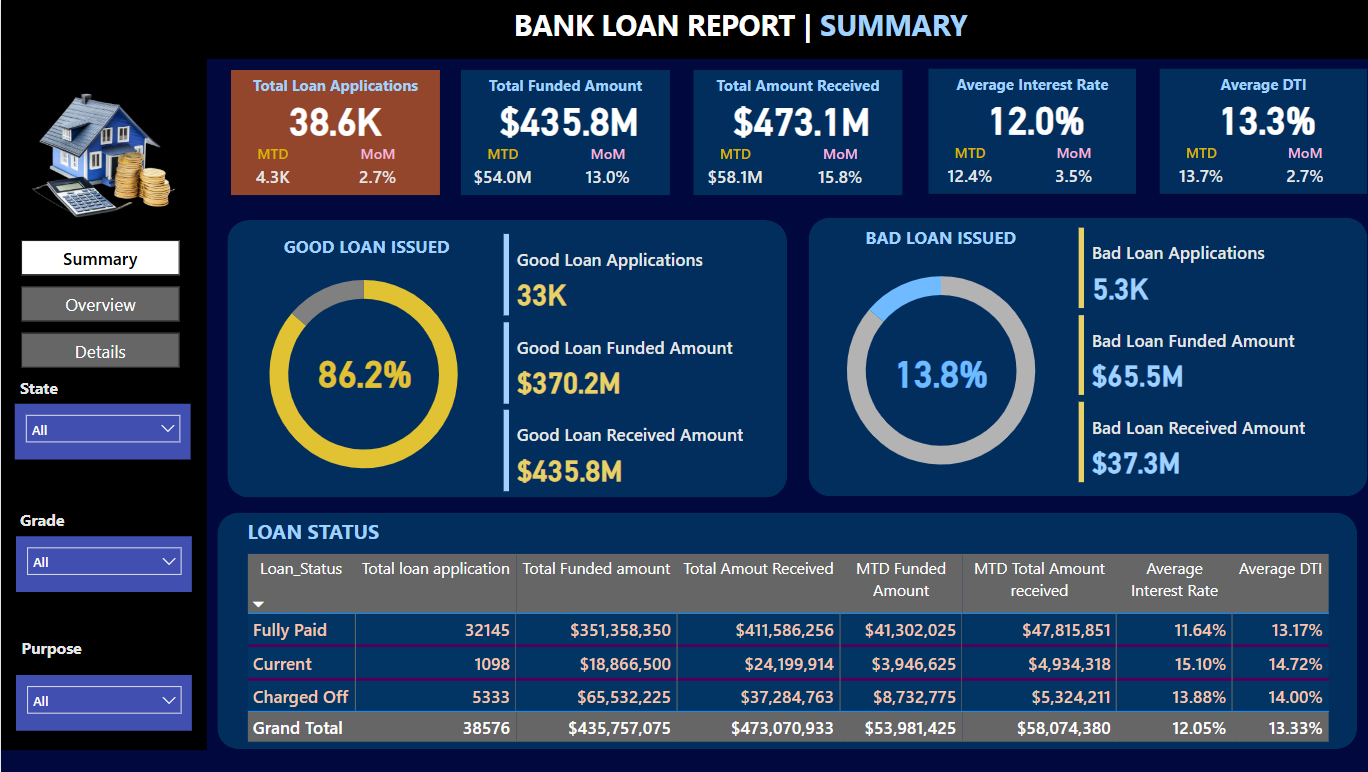

The page's visual inventory and layout, read from the dashboard file:
{"tool":"powerbi","page":{"name":"Summary","canvas":[1280,720],"ordinal":0},"visuals":[{"type":"shape","box":[865,64,193.5,116.6],"z":0,"group":"g4"},{"type":"shape","box":[1081,64,193.5,116.6],"z":0,"group":"g5"},{"type":"shape","box":[214.3,65.4,194.9,116.6],"z":0,"group":"g1"},{"type":"shape","box":[428.9,65.4,194.9,116.6],"z":0,"group":"g2"},{"type":"shape","box":[646.3,65.4,194.9,116.6],"z":0,"group":"g3"},{"type":"shape","box":[210.9,205.1,522.2,258.9],"z":0},{"type":"card","fields":{"Values":["bank_loan_data.Average Interest Rate"]},"box":[868.3,64.2,193.5,91.9],"z":1000,"group":"g4"},{"type":"card","fields":{"Values":["bank_loan_data.Average DTI"]},"box":[1084.3,64.2,193.5,91.9],"z":1000,"group":"g5"},{"type":"card","fields":{"Values":["bank_loan_data.Total loan application"]},"box":[214.3,65.4,194.9,91.9],"z":1000,"group":"g1"},{"type":"card","fields":{"Values":["bank_loan_data.Total Funded amount"]},"box":[432.2,65.6,194.9,91.9],"z":1000,"group":"g2"},{"type":"card","fields":{"Values":["bank_loan_data.Total Amouth Received"]},"box":[649.6,65.6,194.9,91.9],"z":1000,"group":"g3"},{"type":"donutChart","fields":{"Category":["bank_loan_data.Good Vs Bad Loan"],"Y":["bank_loan_data.Total loan application"]},"box":[213.8,234.2,250.2,229.8],"z":1000},{"type":"shape","box":[0,54.9,192,644.9],"z":2000},{"type":"textbox","box":[865,64,193.5,34.3],"z":2000,"group":"g4"},{"type":"textbox","box":[1081,64,193.5,34.3],"z":2000,"group":"g5"},{"type":"textbox","box":[214.3,65.4,194.9,34.3],"z":2000,"group":"g1"},{"type":"textbox","box":[428.9,65.4,194.9,34.3],"z":2000,"group":"g2"},{"type":"textbox","box":[646.3,65.4,194.9,34.3],"z":2000,"group":"g3"},{"type":"shape","box":[0,0,1280.3,54.9],"z":3000},{"type":"card","title":"MTD","fields":{"Values":["bank_loan_data.MTD Average Interest Rate"]},"box":[865,132.6,77.7,48],"z":3000,"group":"g4"},{"type":"card","title":"MTD","fields":{"Values":["bank_loan_data.MTD Average DTI"]},"box":[1081,132.6,77.7,48],"z":3000,"group":"g5"},{"type":"card","title":"MTD","fields":{"Values":["bank_loan_data.MTD Loan Application"]},"box":[214.3,134,78.2,48],"z":3000,"group":"g1"},{"type":"card","title":"MTD","fields":{"Values":["bank_loan_data.MTD Funded Amount"]},"box":[428.9,134,78.2,48],"z":3000,"group":"g2"},{"type":"card","title":"MTD","fields":{"Values":["bank_loan_data.MTD Total Amount received"]},"box":[646.3,134,78.2,48],"z":3000,"group":"g3"},{"type":"card","title":"MoM","fields":{"Values":["bank_loan_data.MoM Average Interest rate"]},"box":[961.8,132.6,77.7,48],"z":4000,"group":"g4"},{"type":"card","title":"MoM","fields":{"Values":["bank_loan_data.MoM Average DTI"]},"box":[1177.8,132.6,77.7,48],"z":4000,"group":"g5"},{"type":"card","title":"MoM","fields":{"Values":["bank_loan_data.MoM Loan Application"]},"box":[311.7,134,78.2,48],"z":4000,"group":"g1"},{"type":"card","title":"MoM","fields":{"Values":["bank_loan_data.MoM Total Funded Amount"]},"box":[526.3,134,78.2,48],"z":4000,"group":"g2"},{"type":"card","title":"MoM","fields":{"Values":["bank_loan_data.MoM Total Amount received"]},"box":[743.7,134,78.2,48],"z":4000,"group":"g3"},{"type":"card","fields":{"Values":["bank_loan_data.Good Loan %"]},"box":[279.3,315.6,119.3,61.1],"z":4000},{"type":"textbox","box":[473.4,0,470.7,64.5],"z":5000},{"type":"group","id":"g1","title":"Group 1","box":[214.3,65.4,194.8,116.9],"z":6000},{"type":"group","id":"g2","title":"Group 1","box":[428.9,65.4,197.6,116.9],"z":7000},{"type":"group","id":"g3","title":"Group 1","box":[646.3,65.4,199,116.9],"z":8000},{"type":"group","id":"g4","title":"Group 1","box":[865,64,196.2,116.9],"z":9000},{"type":"group","id":"g5","title":"Group 1","box":[1081,64,196.2,116.9],"z":10000},{"type":"shape","box":[752.7,203.1,521.7,260.2],"z":11000},{"type":"textbox","box":[253.1,213.8,176,43.6],"z":12000},{"type":"cardVisual","fields":{"Data":["bank_loan_data.Good Loan Applications","bank_loan_data.Good Loan Funded Amount","bank_loan_data.Good Loan Received Amount"]},"box":[464,213.8,260.4,250.2],"z":13000},{"type":"donutChart","fields":{"Category":["bank_loan_data.Good Vs Bad Loan"],"Y":["bank_loan_data.Total loan application"]},"box":[752,231.3,250.2,229.8],"z":14000},{"type":"card","fields":{"Values":["bank_loan_data.Bad Loan %"]},"box":[817.5,315.6,119.3,61.1],"z":15000},{"type":"textbox","box":[784,205.1,186.2,43.6],"z":16000},{"type":"cardVisual","fields":{"Data":["bank_loan_data.Bad Loan Applications","bank_loan_data.Bad Loan Funded Amount","bank_loan_data.Bad Loan Received Amount"]},"box":[1000.6,208,260.9,249.8],"z":17000},{"type":"shape","box":[202.2,478.5,1063.3,221.1],"z":18000},{"type":"tableEx","fields":{"Values":["bank_loan_data.loan_status","bank_loan_data.Total loan application","bank_loan_data.Total Funded amount","bank_loan_data.Total Amouth Received","bank_loan_data.MTD Funded Amount","bank_loan_data.MTD Total Amount received","bank_loan_data.Average Interest Rate","bank_loan_data.Average DTI"]},"box":[224,512,1038.5,187.6],"z":19000},{"type":"textbox","box":[192,478.5,197.8,43.6],"z":20000},{"type":"slicer","fields":{"Values":["bank_loan_data.address_state"]},"box":[13.1,376.7,164.4,52.4],"z":21000},{"type":"textbox","box":[13.1,346.2,65.5,30.5],"z":22000},{"type":"slicer","fields":{"Values":["bank_loan_data.grade"]},"box":[14.5,500.4,164.4,52.4],"z":23000},{"type":"textbox","box":[13.1,469.8,65.5,30.5],"z":24000},{"type":"slicer","fields":{"Values":["bank_loan_data.purpose"]},"box":[14.5,629.8,164.4,52.4],"z":25000},{"type":"textbox","box":[14.5,589.1,82.9,30.5],"z":26000},{"type":"image","box":[0,64,192,150.2],"z":26001},{"type":"pageNavigator","box":[18.5,224,148.9,121.8],"z":26002}]}

Visuals, with their boxes in screenshot pixels (x1, y1, x2, y2), scaled from the page's 1280x720 canvas onto the 1368x772 screenshot:
shape: x1=924 y1=69 x2=1131 y2=194
shape: x1=1155 y1=69 x2=1362 y2=194
shape: x1=229 y1=70 x2=437 y2=195
shape: x1=458 y1=70 x2=667 y2=195
shape: x1=691 y1=70 x2=899 y2=195
shape: x1=225 y1=220 x2=784 y2=498
card - bank_loan_data.Average Interest Rate: x1=928 y1=69 x2=1135 y2=167
card - bank_loan_data.Average DTI: x1=1159 y1=69 x2=1366 y2=167
card - bank_loan_data.Total loan application: x1=229 y1=70 x2=437 y2=169
card - bank_loan_data.Total Funded amount: x1=462 y1=70 x2=670 y2=169
card - bank_loan_data.Total Amouth Received: x1=694 y1=70 x2=903 y2=169
donutChart - bank_loan_data.Good Vs Bad Loan x bank_loan_data.Total loan application: x1=228 y1=251 x2=496 y2=498
shape: x1=0 y1=59 x2=205 y2=750
textbox: x1=924 y1=69 x2=1131 y2=105
textbox: x1=1155 y1=69 x2=1362 y2=105
textbox: x1=229 y1=70 x2=437 y2=107
textbox: x1=458 y1=70 x2=667 y2=107
textbox: x1=691 y1=70 x2=899 y2=107
shape: x1=0 y1=0 x2=1367 y2=59
"MTD" card: x1=924 y1=142 x2=1008 y2=194
"MTD" card: x1=1155 y1=142 x2=1238 y2=194
"MTD" card: x1=229 y1=144 x2=313 y2=195
"MTD" card: x1=458 y1=144 x2=542 y2=195
"MTD" card: x1=691 y1=144 x2=774 y2=195
"MoM" card: x1=1028 y1=142 x2=1111 y2=194
"MoM" card: x1=1259 y1=142 x2=1342 y2=194
"MoM" card: x1=333 y1=144 x2=417 y2=195
"MoM" card: x1=562 y1=144 x2=646 y2=195
"MoM" card: x1=795 y1=144 x2=878 y2=195
card - bank_loan_data.Good Loan %: x1=299 y1=338 x2=426 y2=404
textbox: x1=506 y1=0 x2=1009 y2=69
"Group 1" group: x1=229 y1=70 x2=437 y2=195
"Group 1" group: x1=458 y1=70 x2=670 y2=195
"Group 1" group: x1=691 y1=70 x2=903 y2=195
"Group 1" group: x1=924 y1=69 x2=1134 y2=194
"Group 1" group: x1=1155 y1=69 x2=1365 y2=194
shape: x1=804 y1=218 x2=1362 y2=497
textbox: x1=271 y1=229 x2=459 y2=276
cardVisual - bank_loan_data.Good Loan Applications x bank_loan_data.Good Loan Funded Amount: x1=496 y1=229 x2=774 y2=498
donutChart - bank_loan_data.Good Vs Bad Loan x bank_loan_data.Total loan application: x1=804 y1=248 x2=1071 y2=494
card - bank_loan_data.Bad Loan %: x1=874 y1=338 x2=1001 y2=404
textbox: x1=838 y1=220 x2=1037 y2=267
cardVisual - bank_loan_data.Bad Loan Applications x bank_loan_data.Bad Loan Funded Amount: x1=1069 y1=223 x2=1348 y2=491
shape: x1=216 y1=513 x2=1353 y2=750
tableEx - bank_loan_data.loan_status x bank_loan_data.Total loan application: x1=239 y1=549 x2=1349 y2=750
textbox: x1=205 y1=513 x2=417 y2=560
slicer - bank_loan_data.address_state: x1=14 y1=404 x2=190 y2=460
textbox: x1=14 y1=371 x2=84 y2=404
slicer - bank_loan_data.grade: x1=15 y1=537 x2=191 y2=593
textbox: x1=14 y1=504 x2=84 y2=536
slicer - bank_loan_data.purpose: x1=15 y1=675 x2=191 y2=731
textbox: x1=15 y1=632 x2=104 y2=664
image: x1=0 y1=69 x2=205 y2=230
pageNavigator: x1=20 y1=240 x2=179 y2=371
